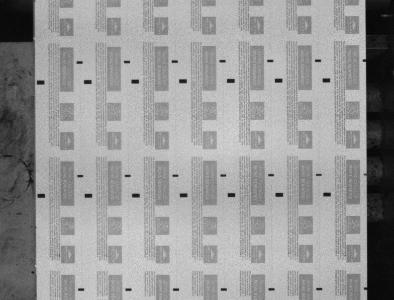backgroundclutter: (31, 271, 35, 274), (35, 264, 37, 267)
incorrect qblock: (364, 287, 368, 290), (364, 173, 368, 176), (363, 59, 367, 62)
qblock: (132, 193, 140, 198), (37, 80, 45, 85), (276, 192, 284, 197), (323, 192, 331, 197), (37, 193, 45, 198), (131, 79, 139, 84), (275, 78, 283, 83), (227, 78, 235, 83), (322, 78, 331, 82), (85, 193, 92, 198), (180, 193, 188, 197), (228, 193, 236, 197), (84, 80, 92, 84), (179, 79, 187, 83)
smallqblock: (220, 59, 226, 63), (125, 288, 132, 291), (316, 287, 323, 290), (76, 61, 83, 64), (124, 60, 131, 63), (267, 59, 274, 62), (315, 59, 322, 62), (268, 173, 275, 176), (221, 288, 227, 291), (78, 288, 84, 291), (173, 288, 179, 291), (172, 60, 178, 63), (77, 174, 83, 177), (125, 174, 131, 177), (221, 174, 227, 177), (316, 173, 322, 176), (173, 174, 179, 177), (269, 288, 275, 290)
